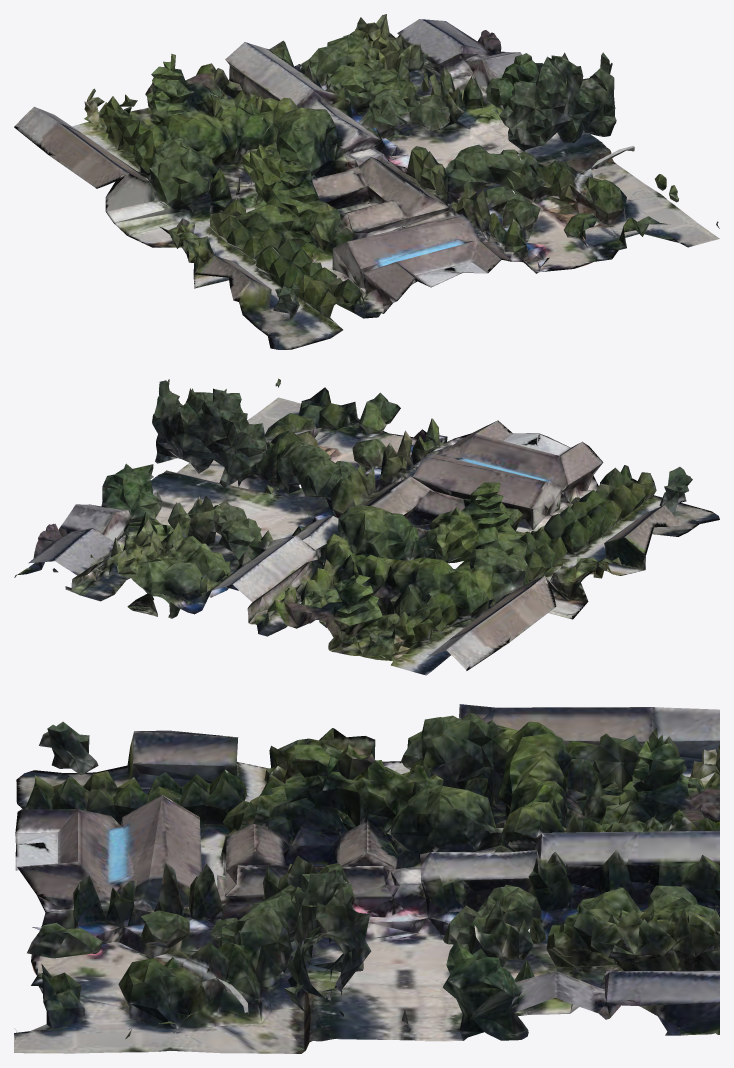
3 renders of one model, top to bottom at view 1: azimuth 30°, elevation 25°; view 2: azimuth 150°, elevation 25°; view 3: azimuth 270°, elevation 25°, orthographic. The views are drawn at different scales.
Bounding box in the file's own units: 112 × 27.58 × 112.
Materials: 1 (1 with a texture image).
